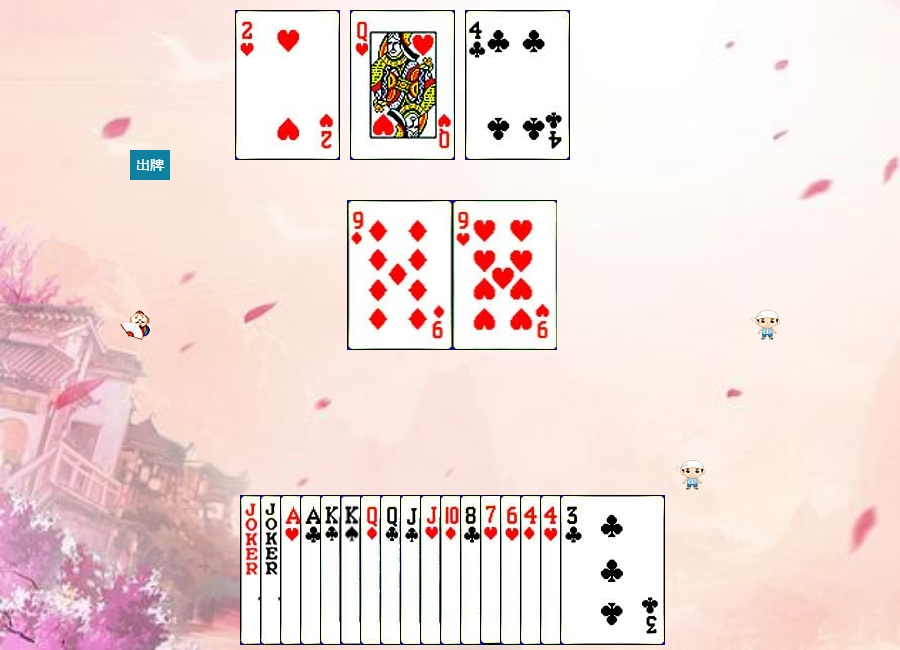10~1: (440, 495, 545, 645)
11~2: (400, 495, 505, 645)
11~3: (420, 495, 525, 645)
12~1: (360, 495, 465, 645)
12~2: (380, 495, 485, 645)
12~3: (350, 10, 455, 160)
13~2: (320, 495, 425, 645)
13~4: (340, 495, 445, 645)
14~2: (300, 495, 405, 645)
14~3: (280, 495, 385, 645)
15~3: (235, 10, 340, 160)
17~3: (260, 495, 365, 645)
18~4: (240, 495, 345, 645)
3~2: (560, 495, 665, 645)
4~1: (520, 495, 625, 645)
4~2: (465, 10, 570, 160)
4~3: (540, 495, 645, 645)
6~3: (500, 495, 605, 645)
7~3: (480, 495, 585, 645)
8~2: (460, 495, 565, 645)
9~1: (348, 200, 453, 350)
9~3: (453, 200, 558, 350)
